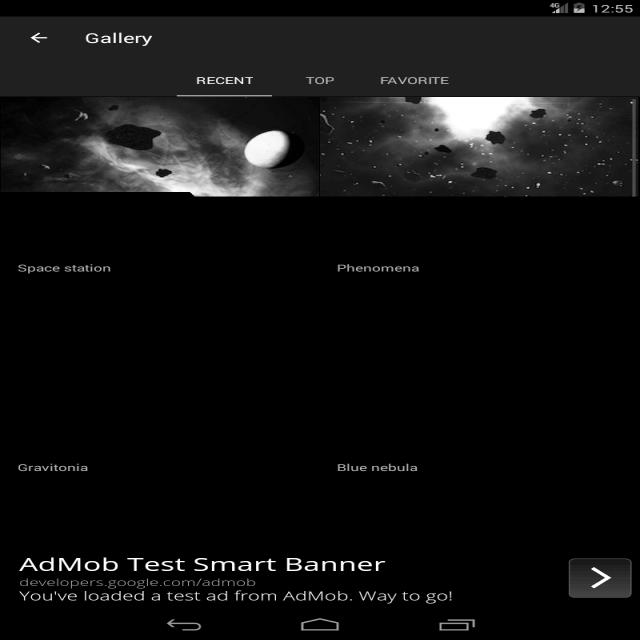Button: (562, 554, 638, 602)
ImageButton: (23, 25, 63, 51)
TextView: (15, 554, 468, 606), (326, 257, 440, 281), (15, 258, 134, 278), (76, 25, 174, 47), (371, 69, 459, 89), (191, 71, 262, 87)
